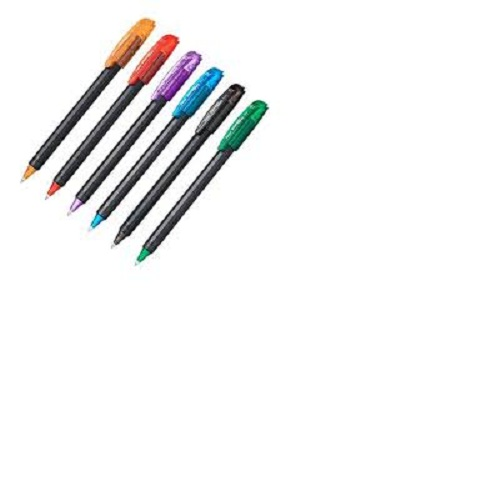Boligrafo: (46, 32, 181, 207), (110, 82, 252, 247), (133, 98, 274, 263), (74, 51, 204, 220), (21, 15, 153, 177), (90, 68, 222, 229)
